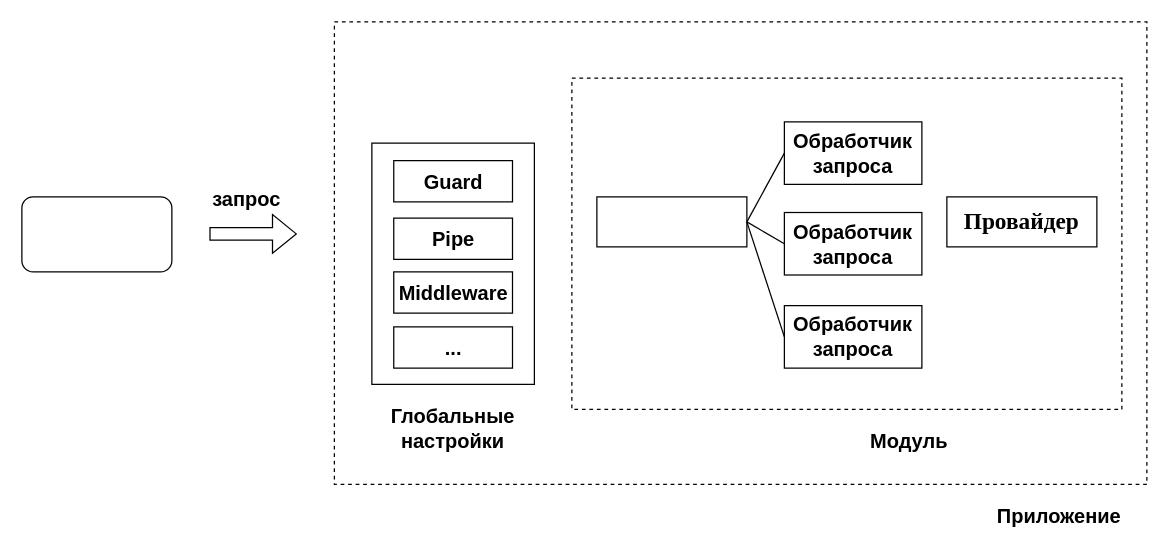
The diagram is 1169 pixels wide and 556 high, and some of its shapes have lost their labels. The shapes that lost their labels are listed below. From the top down, each one's centre as x and y in pixels, then its label:
At pixel 96 234: "Клиент".
At pixel 671 221: "Контроллер".
